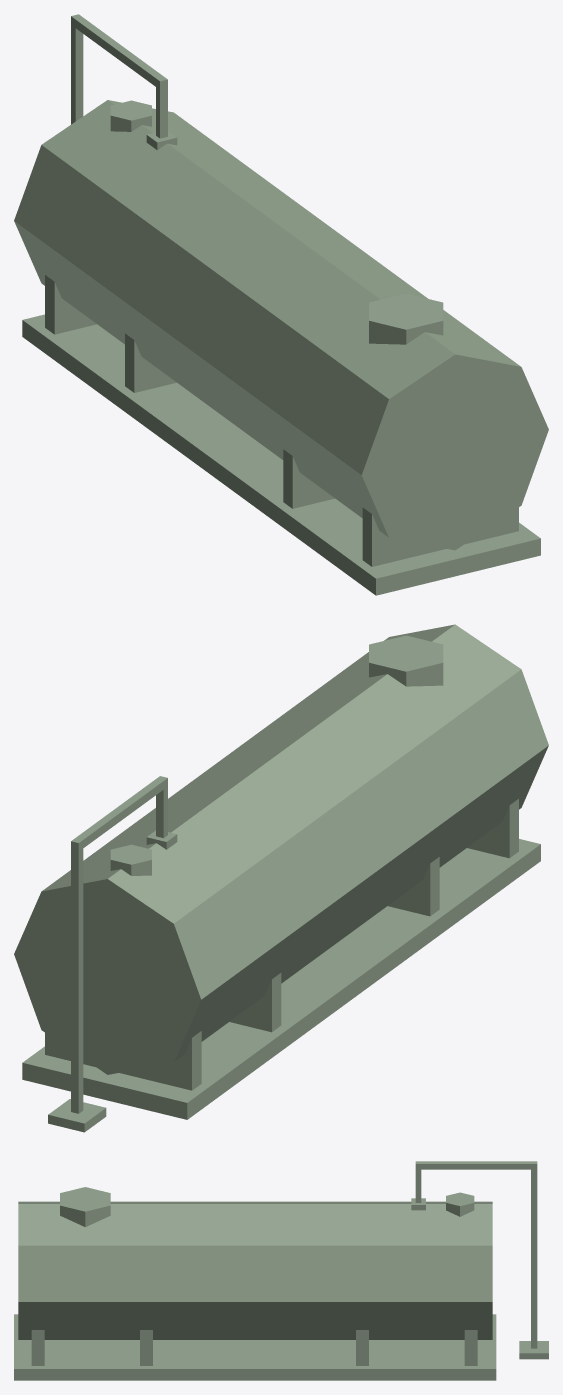
The model's file is fuel_tank_large.fbx.
The picture shows the model from 3 angles, top to bottom: view 1: azimuth 30°, elevation 25°; view 2: azimuth 150°, elevation 25°; view 3: azimuth 270°, elevation 25°; orthographic projection. The views are drawn at different scales.
Parts seen in each view (by area): view 1: fuel_tank_large; view 2: fuel_tank_large; view 3: fuel_tank_large.
Boxes of the visible parts, x1,y1,x2,y2 form: fuel_tank_large: (14, 14, 548, 595); fuel_tank_large: (14, 624, 548, 1132); fuel_tank_large: (14, 1161, 548, 1380).
Size of the model in its own units: 4.34 by 6.19 by 15.74.
